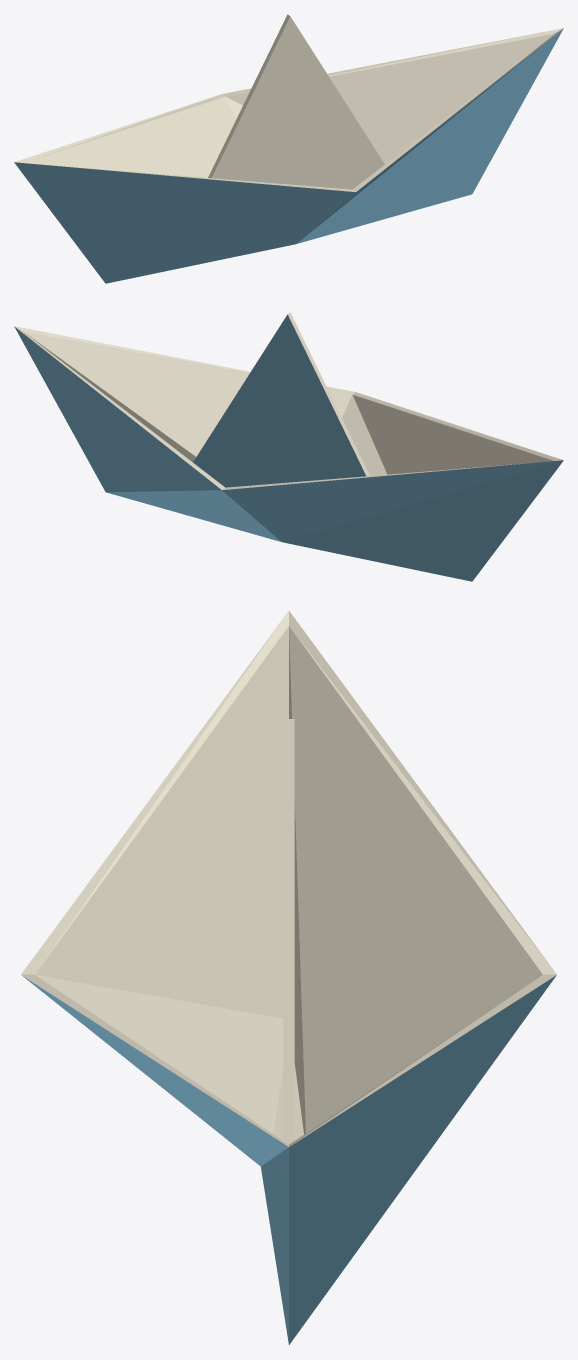
3 views of the same model, one above another, from view 1: azimuth 30°, elevation 25°; view 2: azimuth 150°, elevation 25°; view 3: azimuth 270°, elevation 25° (orthographic). The views are drawn at different scales.
Visible parts, largest first — view 1: WholeOpenFoldedPaperHull, WholeCentralTriangularPaperFold; view 2: WholeOpenFoldedPaperHull, WholeCentralTriangularPaperFold; view 3: WholeOpenFoldedPaperHull, WholeCentralTriangularPaperFold.
Part boxes in pixels (x1,y1,x2,y2): WholeOpenFoldedPaperHull: (14, 28, 563, 283); WholeCentralTriangularPaperFold: (208, 14, 384, 189); WholeOpenFoldedPaperHull: (14, 326, 563, 581); WholeCentralTriangularPaperFold: (193, 312, 369, 487); WholeOpenFoldedPaperHull: (21, 611, 556, 1344); WholeCentralTriangularPaperFold: (283, 719, 294, 1144).
Size of the model in its own units: 0.18 by 0.07 by 0.076.
